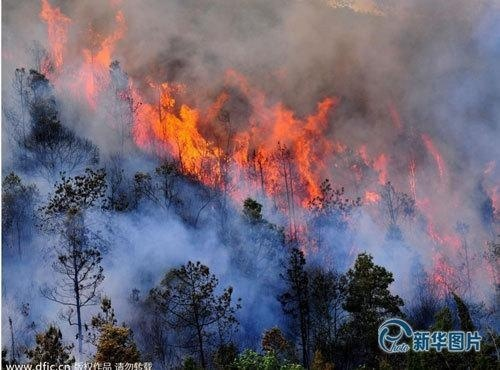fire: (285, 222, 318, 255)
